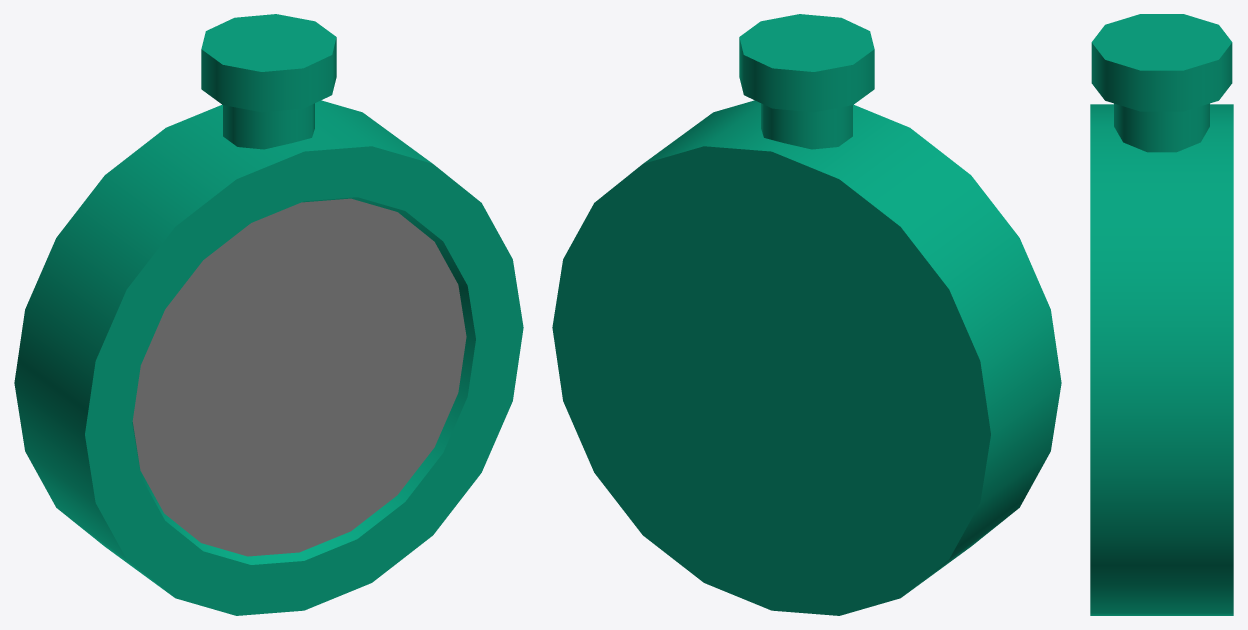
File: RelojIC.fbx
3 renders of one model, left to right at view 1: azimuth 30°, elevation 25°; view 2: azimuth 150°, elevation 25°; view 3: azimuth 270°, elevation 25°, orthographic.
Parts seen in each view (by area): view 1: Clock, Cylinder; view 2: Clock; view 3: Clock.
Boxes of the visible parts, box(x1,y1,x2,y2) form: Clock: box(14, 14, 523, 615); Cylinder: box(132, 198, 466, 556); Clock: box(552, 14, 1061, 615); Clock: box(1090, 14, 1233, 615).
Size of the model in its own units: 0.2749 by 0.3244 by 0.0765.
